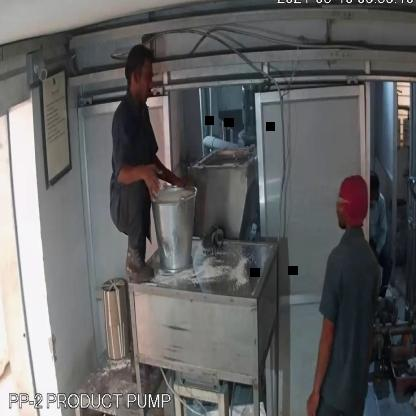no_glove: (306, 294, 339, 416), (108, 144, 164, 201)
